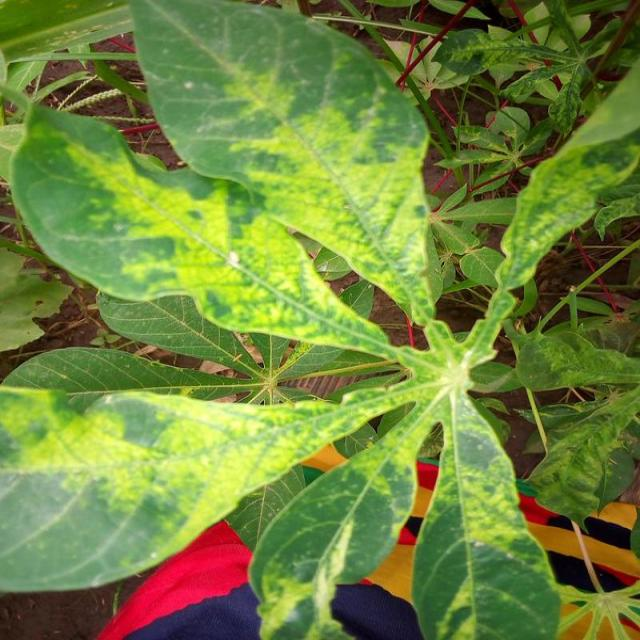cassava leaf: (0, 1, 638, 637), (7, 98, 406, 364), (126, 0, 441, 327), (0, 381, 389, 594)
